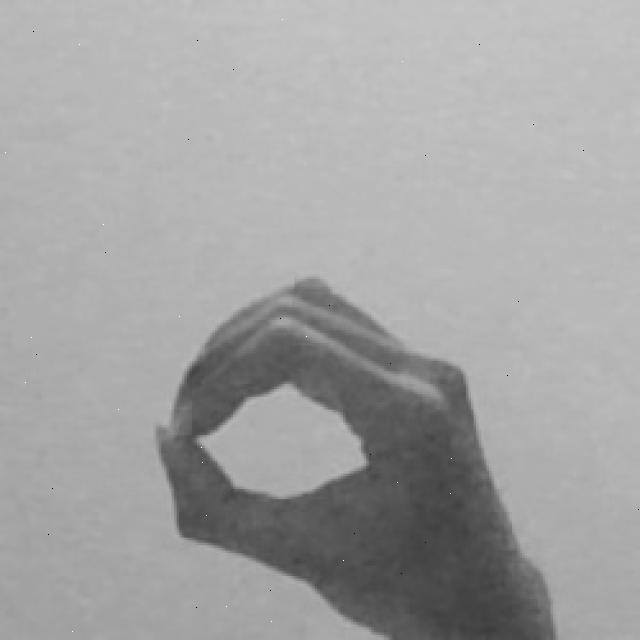O: (148, 269, 560, 640)
